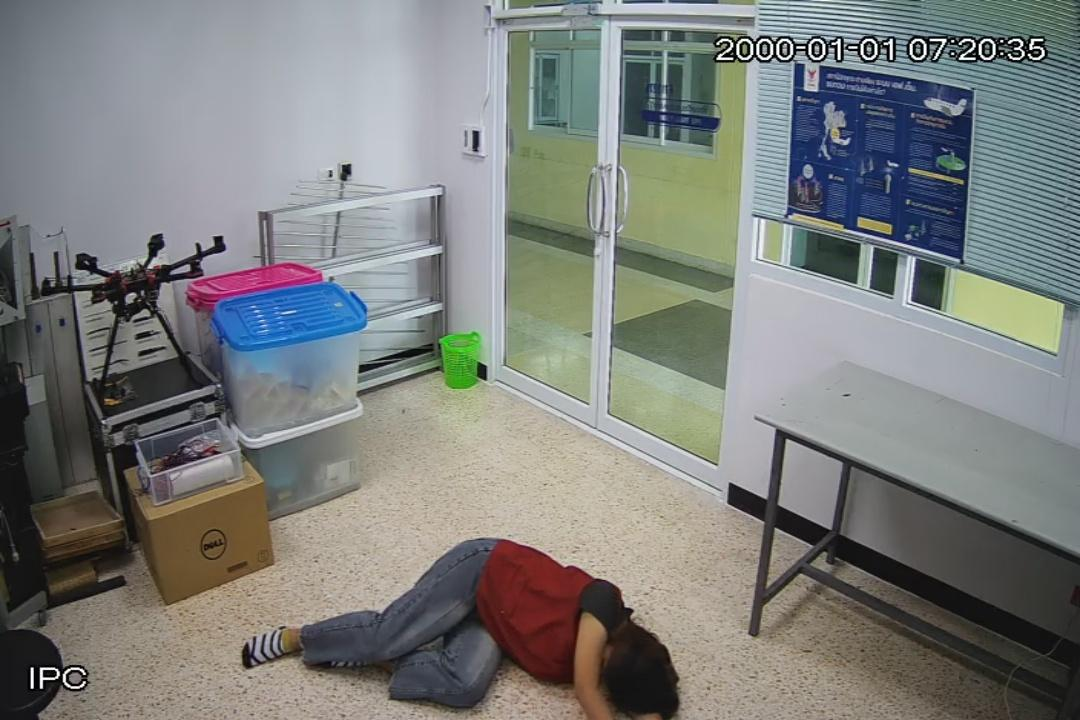fall: (223, 530, 683, 720)
